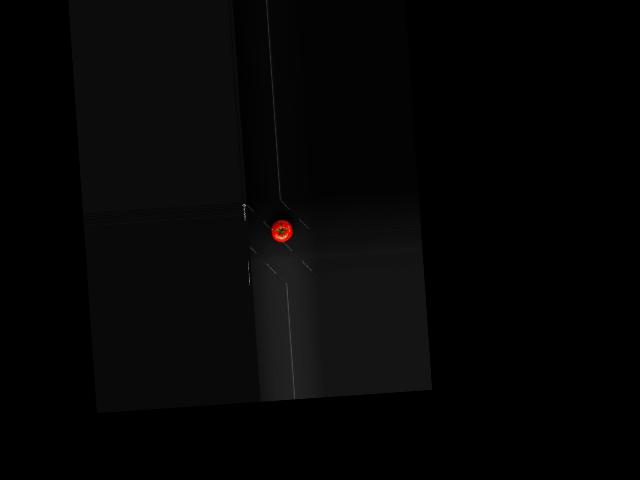tomato: (269, 219, 293, 243)
